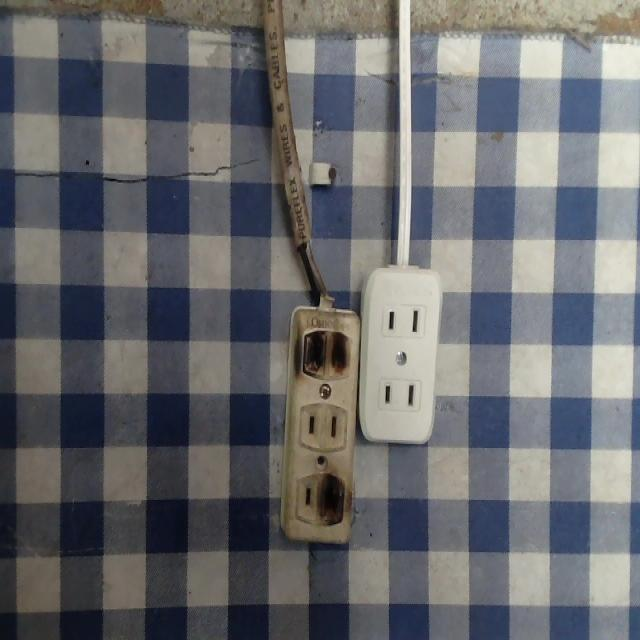-: (301, 328, 354, 380), (314, 472, 348, 524)
